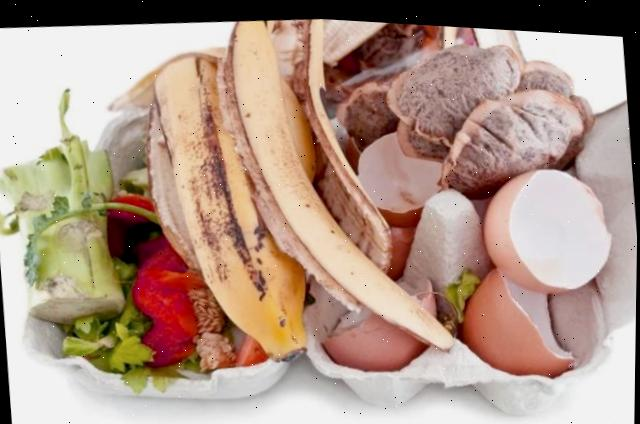Garbage: (0, 15, 638, 411)
contaminated_waste: (304, 271, 609, 407), (575, 92, 638, 324), (24, 316, 136, 393), (140, 356, 289, 396)
